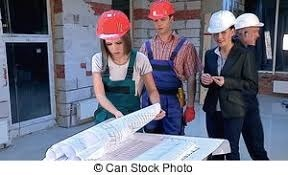helmet: (95, 9, 134, 39), (205, 7, 236, 35), (145, 1, 177, 21), (235, 12, 267, 30)
person with partial safety: (88, 6, 147, 110), (141, 1, 199, 103), (204, 7, 247, 139), (235, 11, 267, 101)
